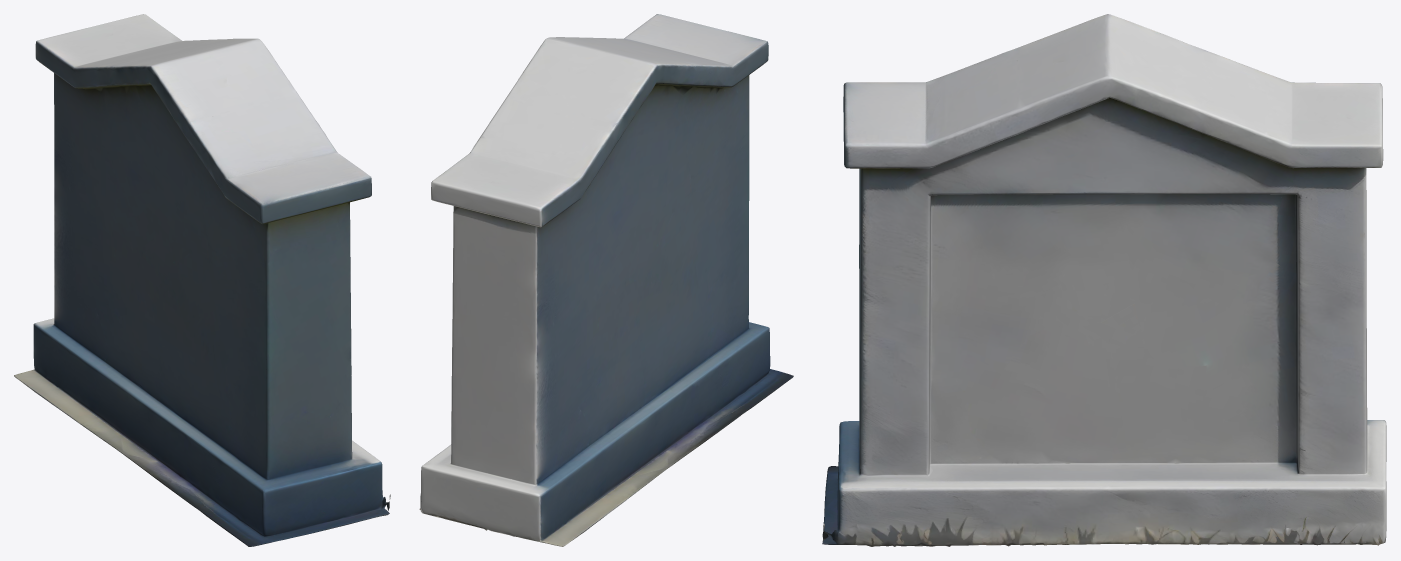
File: wall2.fbx
3 views of the same model, side by side, from view 1: azimuth 30°, elevation 25°; view 2: azimuth 150°, elevation 25°; view 3: azimuth 270°, elevation 25° (orthographic). The views are drawn at different scales.
Parts seen in each view (by area): view 1: tripo_node_0a89636d; view 2: tripo_node_0a89636d; view 3: tripo_node_0a89636d.
Boxes of the visible parts, x1,y1,x2,y2 form: tripo_node_0a89636d: (14,14,390,546); tripo_node_0a89636d: (419,14,793,546); tripo_node_0a89636d: (822,14,1386,546).
Size of the model in its own units: 0.3527 by 0.91 by 0.9995.
1 material, 1 textured.
